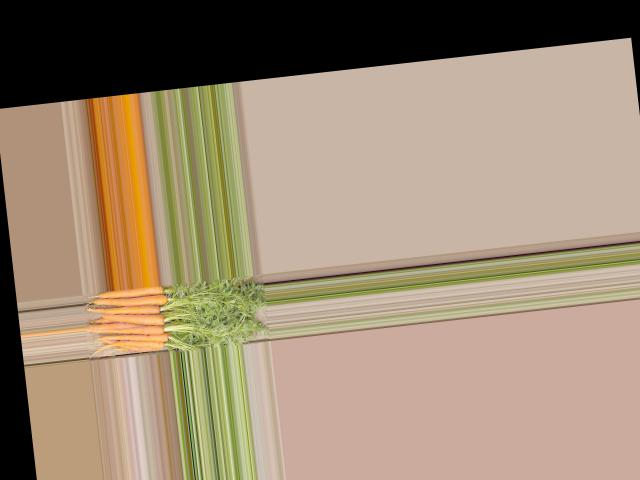carrot: (92, 284, 167, 304)
